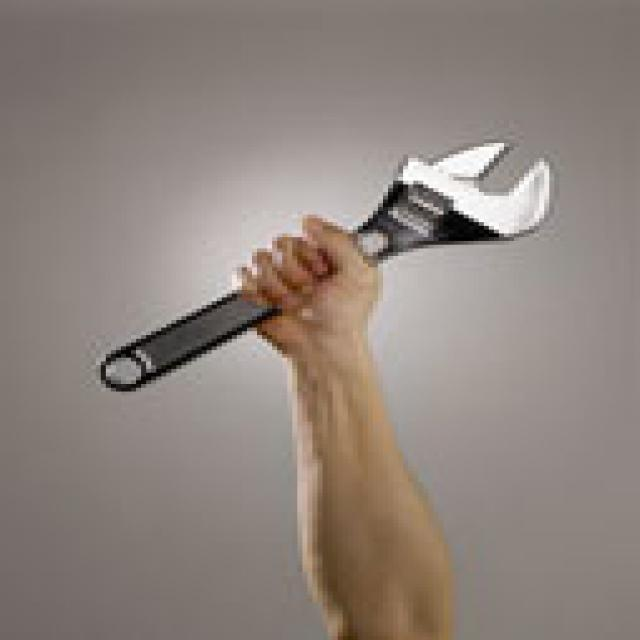wrench: (90, 136, 561, 398)
